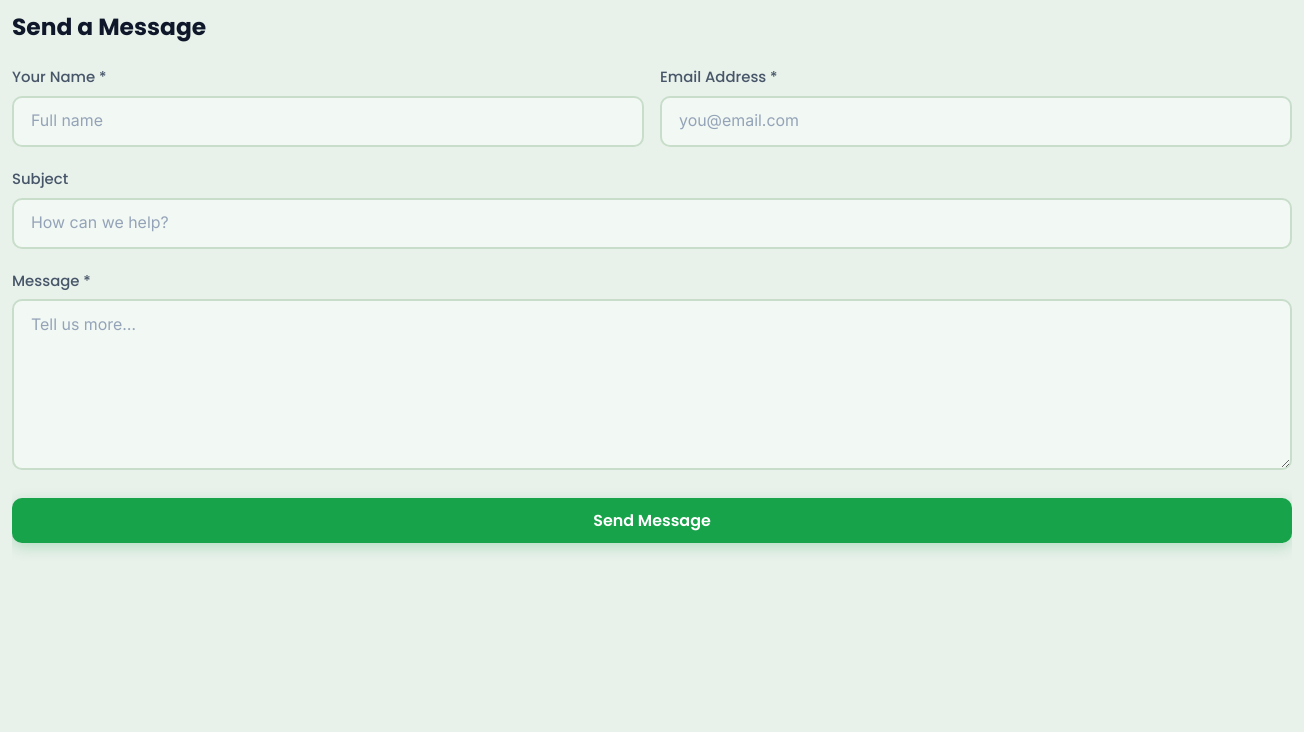
Test: ContactForm › shows the thank-you message after the server accepts it
The image size is (1304, 732).
In the field labelled "Your Name *": [328, 121] box [12,96,644,147], type "Nimali Perera"
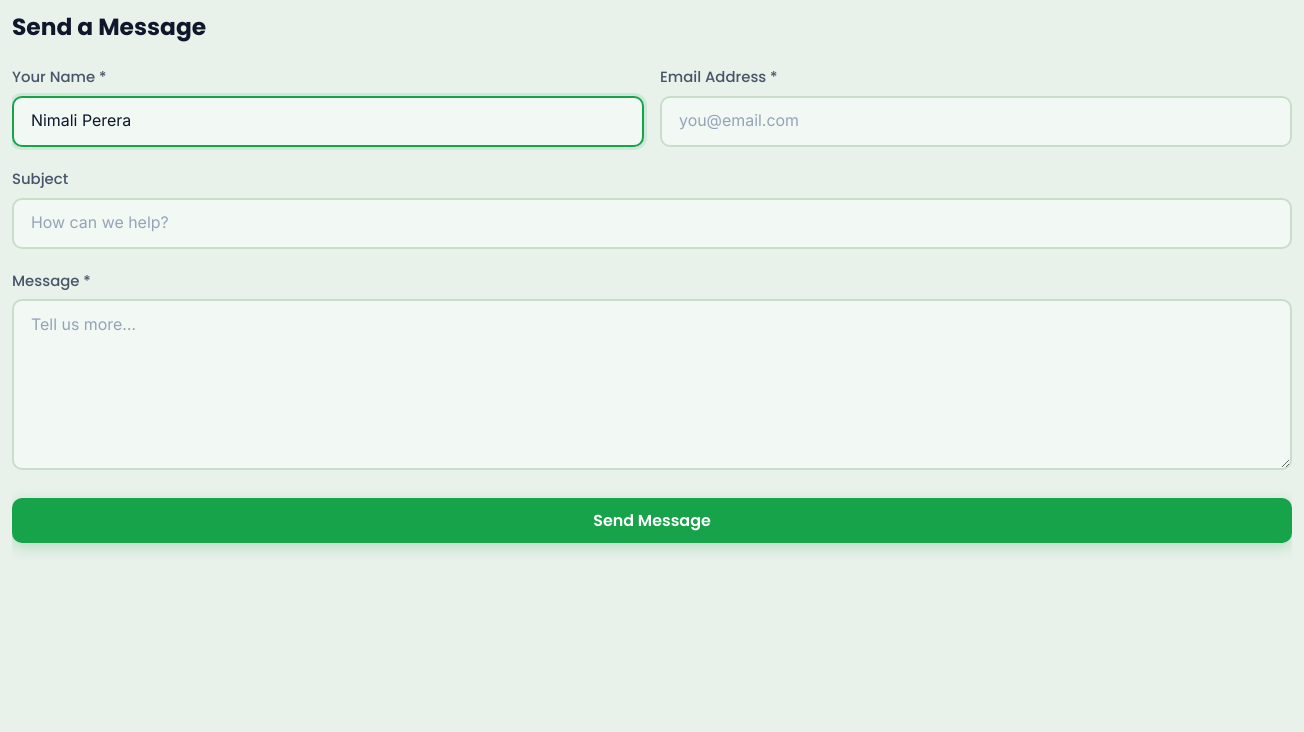
In the field labelled "Email Address *": [976, 121] box [660,96,1292,147], type "nimali@example.com"
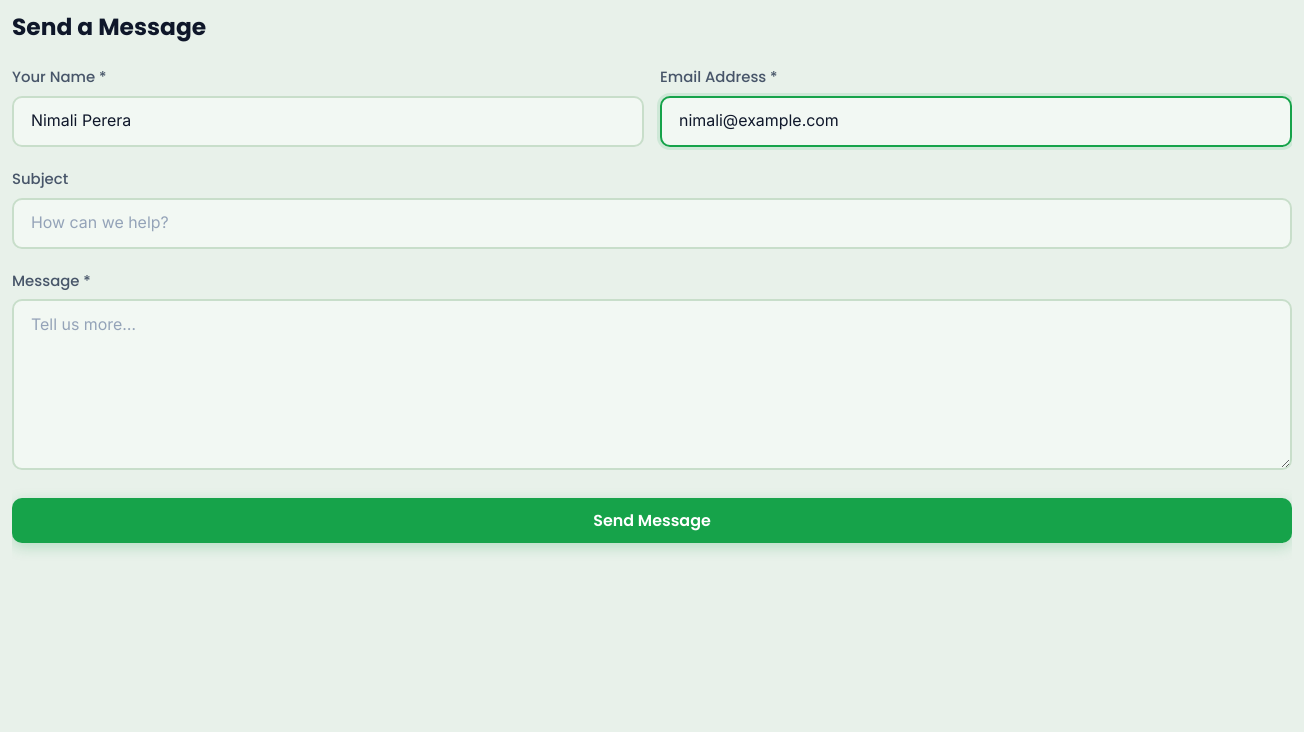
In the text box labelled "Message *": [652, 385] box [12,299,1292,470], type "We would like to donate surplus bread every Friday."
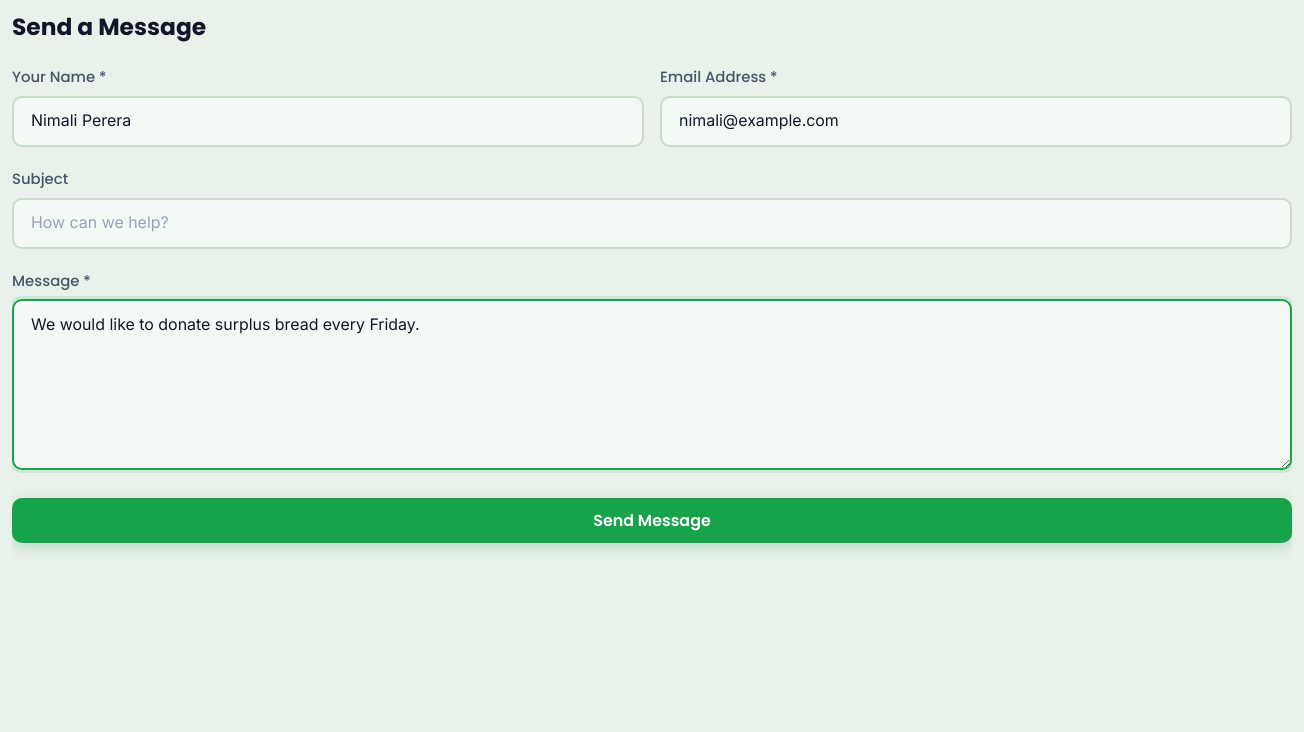
Click the button "Send Message": [652, 521] box [12,498,1292,543]
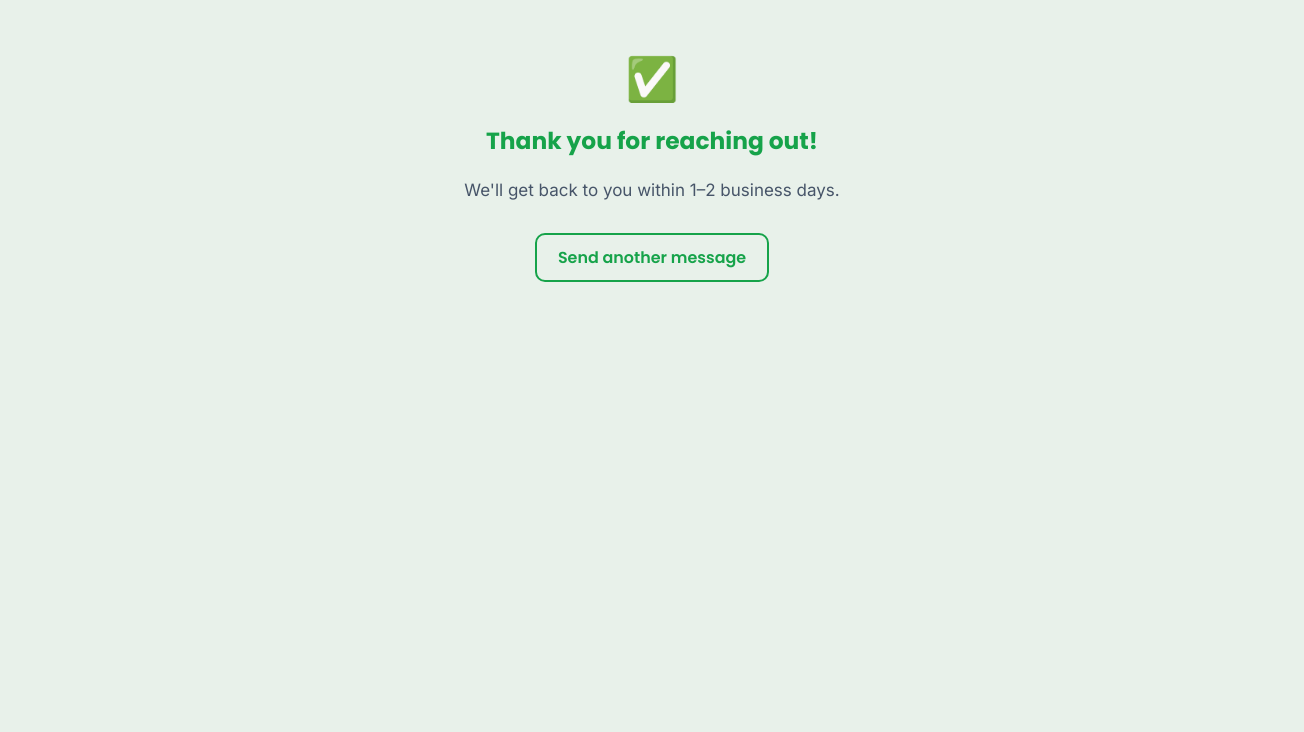
Now the heading "Thank you for reaching out!" is shown, box [486,126,818,155]
